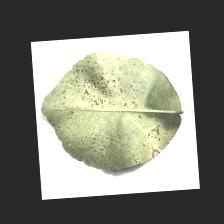canker: (47, 58, 165, 172)
